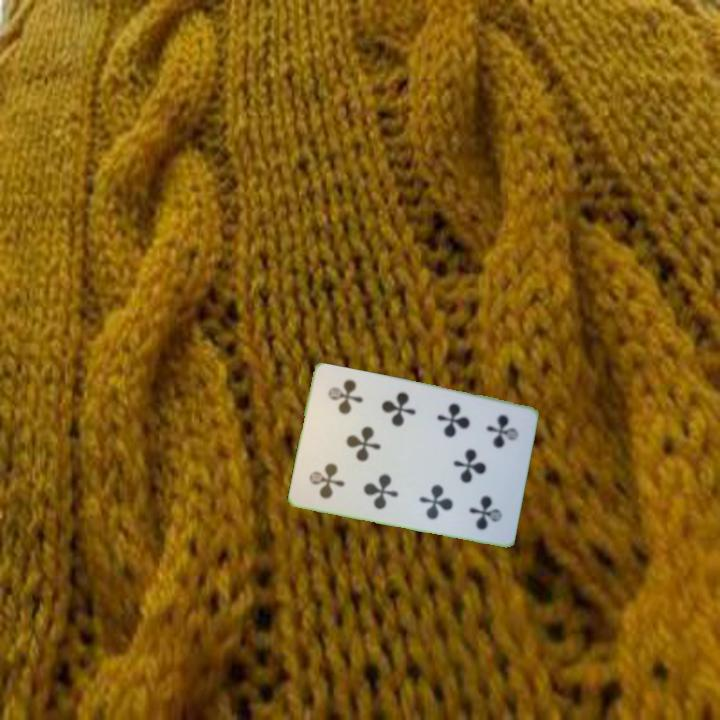c_10.png: (460, 402, 529, 477), (298, 433, 366, 508)
